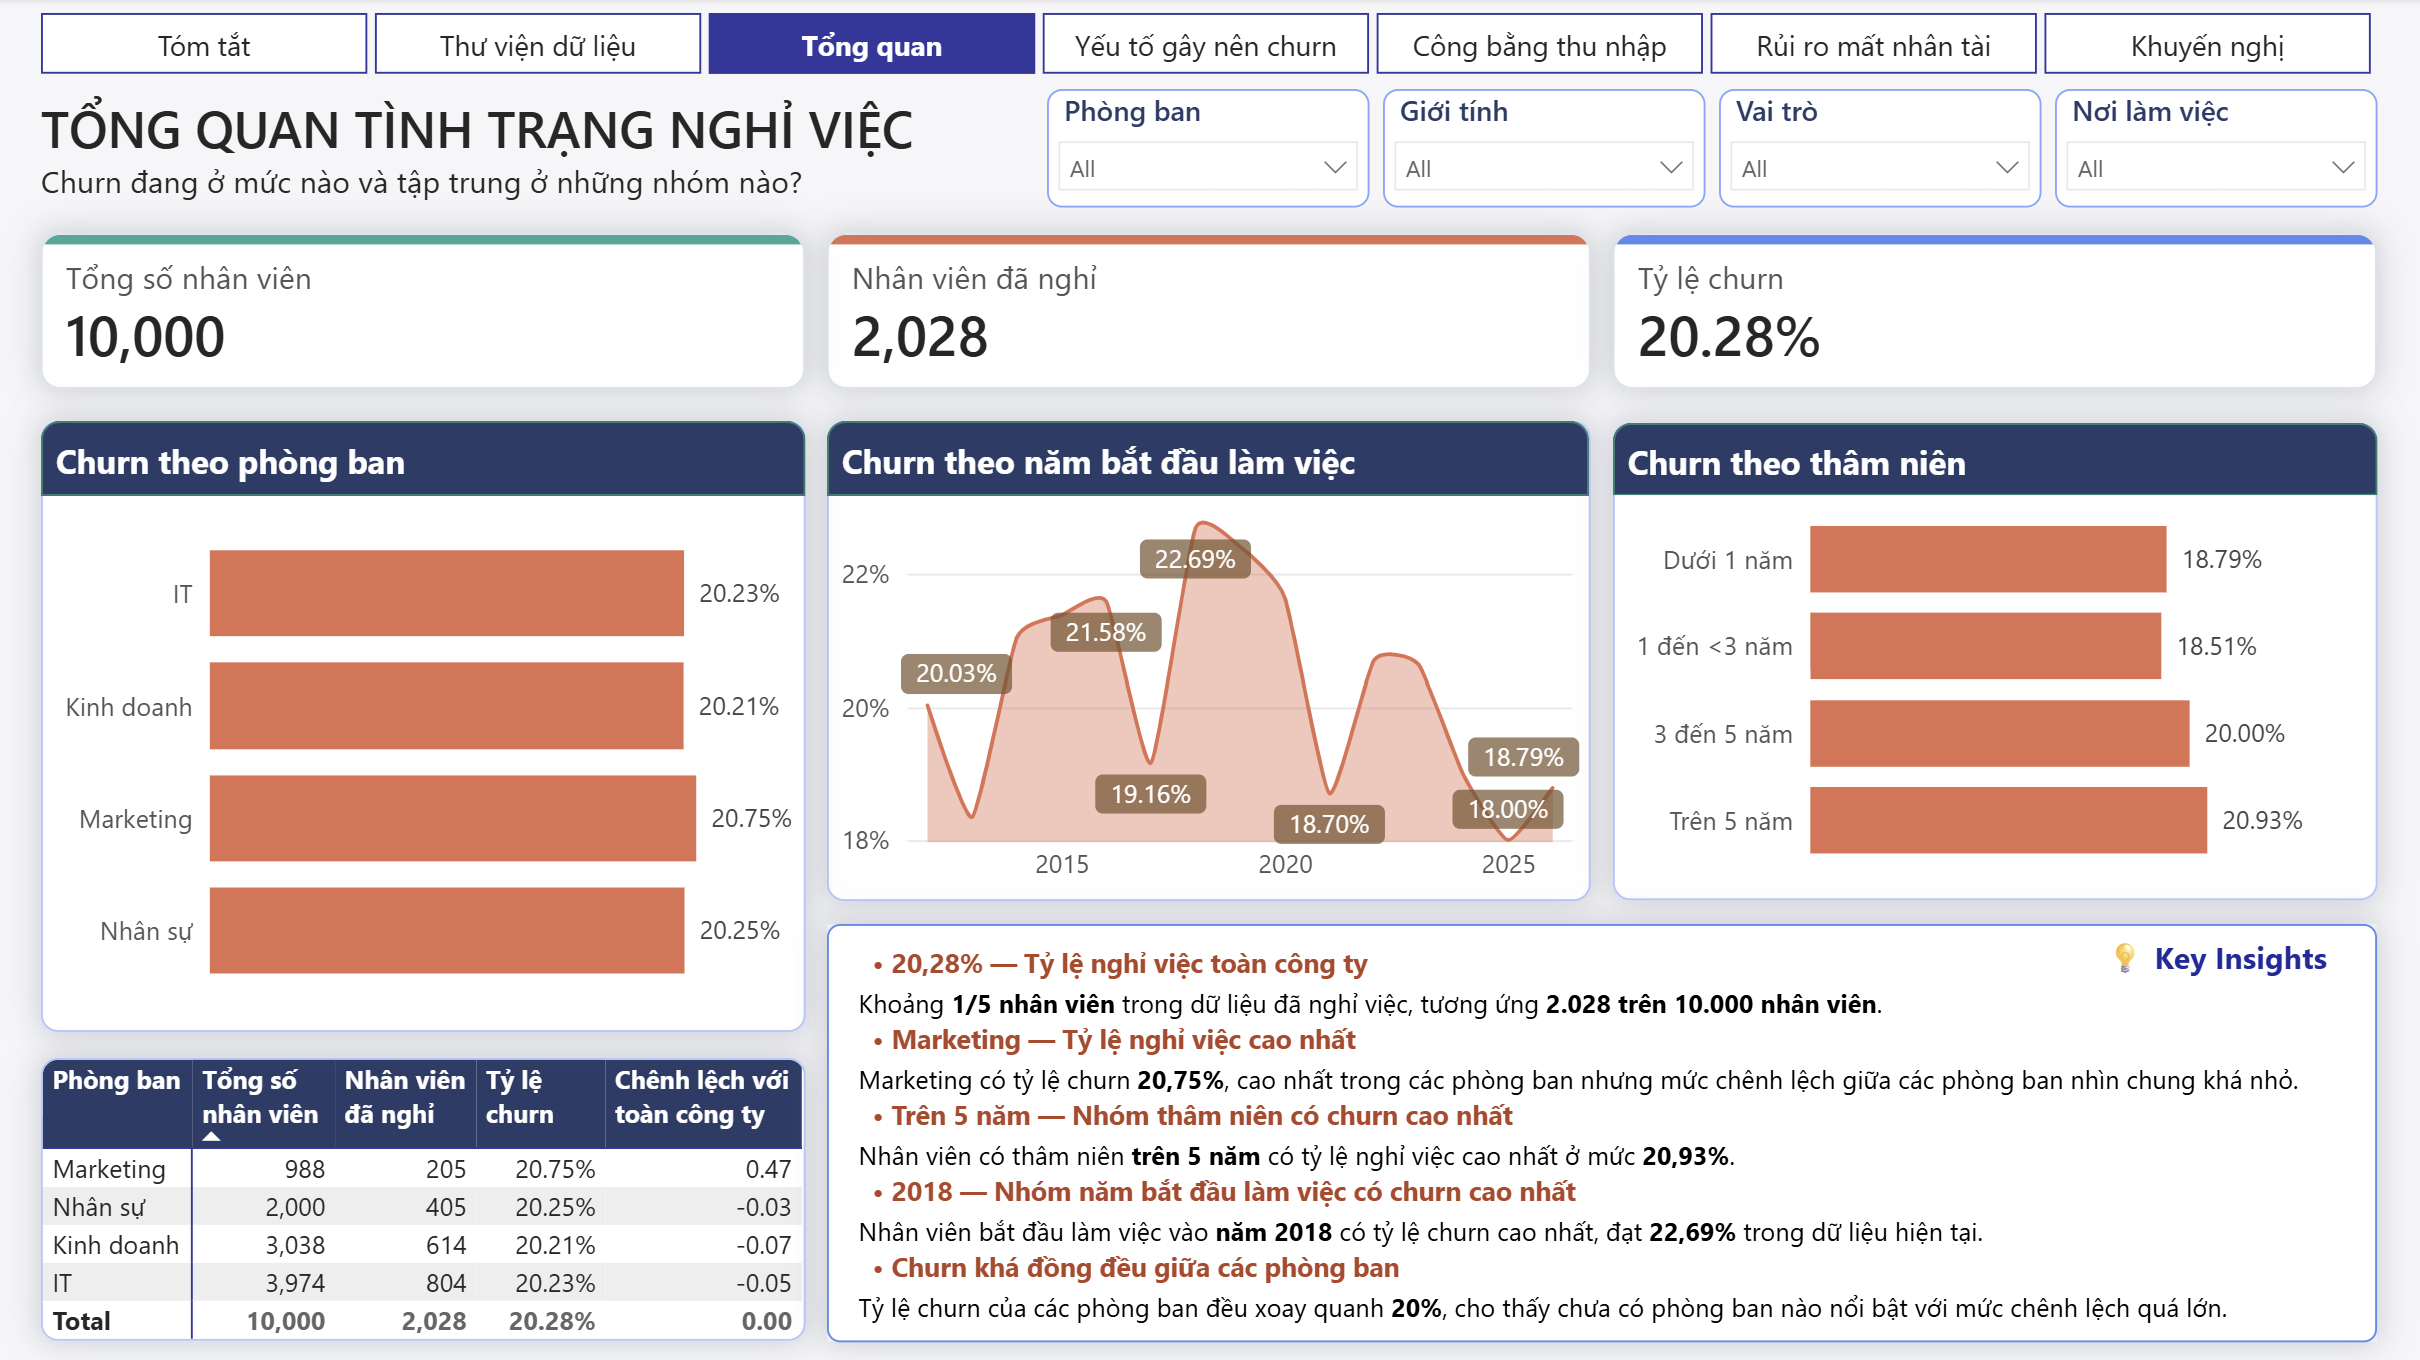

What the dashboard file says about the page in this screenshot:
{"tool":"powerbi","page":{"name":"Tổng quan","canvas":[1280,720],"ordinal":2},"visuals":[{"type":"cardVisual","fields":{"Data":["All Measures.Total Churned"]},"box":[438.7,124,402.7,82],"z":0},{"type":"textbox","box":[438.6,488.3,817.2,220.6],"z":0,"group":"g1"},{"type":"lineChart","title":"Churn theo năm bắt đầu làm việc (ước tính)","fields":{"Category":["mart_employee_analytics.estimated_hire_year"],"Y":["All Measures.Churn Rate"]},"box":[438.9,223.1,402.5,252.4],"z":1000},{"type":"cardVisual","fields":{"Data":["All Measures.Churn Rate"]},"box":[853.3,124,402.7,82],"z":2000},{"type":"pivotTable","fields":{"Rows":["dim_department.department"],"Values":["All Measures.Total Employees","All Measures.Total Churned","All Measures.Churn Rate","All Measures.Churn Delta vs Company (pp)"]},"box":[24.2,558.4,402.9,149.2],"z":3000},{"type":"slicer","fields":{"Values":["dim_work_location.work_location"]},"box":[1085.3,48,170.1,62.3],"z":4000},{"type":"cardVisual","fields":{"Data":["All Measures.Total Employees"]},"box":[24,124,402.7,82],"z":5000},{"type":"slicer","fields":{"Values":["dim_job_role.job_role"]},"box":[908.3,48,170,62.3],"z":6000},{"type":"textbox","box":[24,48,598,72],"z":7000},{"type":"clusteredBarChart","title":"Churn theo thâm niên","fields":{"Category":["mart_employee_analytics.tenure_band"],"Y":["All Measures.Churn Rate"]},"box":[852.9,224.4,402.9,251.2],"z":8000},{"type":"slicer","fields":{"Values":["dim_gender.gender"]},"box":[731.3,48,170,62.3],"z":9000},{"type":"pageNavigator","box":[24,8,1232,32],"z":10000},{"type":"shape","box":[438.6,223.1,401.6,39.5],"z":11000},{"type":"clusteredBarChart","title":"Churn theo phòng ban","fields":{"Category":["dim_department.department"],"Y":["All Measures.Churn Rate"]},"box":[24.2,223.1,402.9,321.3],"z":12000},{"type":"shape","box":[24.2,223.1,402.9,39.5],"z":13000},{"type":"shape","box":[852.9,224.4,402.9,38.2],"z":14000},{"type":"textbox","box":[1105.4,488.3,150.4,40.1],"z":14000,"group":"g1"},{"type":"group","id":"g1","title":"Group 1","box":[438.6,488.3,817.2,220.6],"z":15000},{"type":"slicer","fields":{"Values":["dim_department.department"]},"box":[554.3,48,170.1,62.3],"z":16000}]}

Visuals, with their boxes in screenshot pixels (x1, y1, x2, y2), scaled from the page's 1280x720 canvas onto the 2420x1360 screenshot:
cardVisual - All Measures.Total Churned: {"x1": 829, "y1": 234, "x2": 1591, "y2": 389}
textbox: {"x1": 829, "y1": 922, "x2": 2374, "y2": 1339}
"Churn theo năm bắt đầu làm việc (ước tính)" lineChart: {"x1": 830, "y1": 421, "x2": 1591, "y2": 898}
cardVisual - All Measures.Churn Rate: {"x1": 1613, "y1": 234, "x2": 2375, "y2": 389}
pivotTable - dim_department.department x All Measures.Total Employees: {"x1": 46, "y1": 1055, "x2": 807, "y2": 1337}
slicer - dim_work_location.work_location: {"x1": 2052, "y1": 91, "x2": 2373, "y2": 208}
cardVisual - All Measures.Total Employees: {"x1": 45, "y1": 234, "x2": 807, "y2": 389}
slicer - dim_job_role.job_role: {"x1": 1717, "y1": 91, "x2": 2039, "y2": 208}
textbox: {"x1": 45, "y1": 91, "x2": 1176, "y2": 227}
"Churn theo thâm niên" clusteredBarChart: {"x1": 1613, "y1": 424, "x2": 2374, "y2": 898}
slicer - dim_gender.gender: {"x1": 1383, "y1": 91, "x2": 1704, "y2": 208}
pageNavigator: {"x1": 45, "y1": 15, "x2": 2375, "y2": 76}
shape: {"x1": 829, "y1": 421, "x2": 1589, "y2": 496}
"Churn theo phòng ban" clusteredBarChart: {"x1": 46, "y1": 421, "x2": 807, "y2": 1028}
shape: {"x1": 46, "y1": 421, "x2": 807, "y2": 496}
shape: {"x1": 1613, "y1": 424, "x2": 2374, "y2": 496}
textbox: {"x1": 2090, "y1": 922, "x2": 2374, "y2": 998}
"Group 1" group: {"x1": 829, "y1": 922, "x2": 2374, "y2": 1339}
slicer - dim_department.department: {"x1": 1048, "y1": 91, "x2": 1370, "y2": 208}
